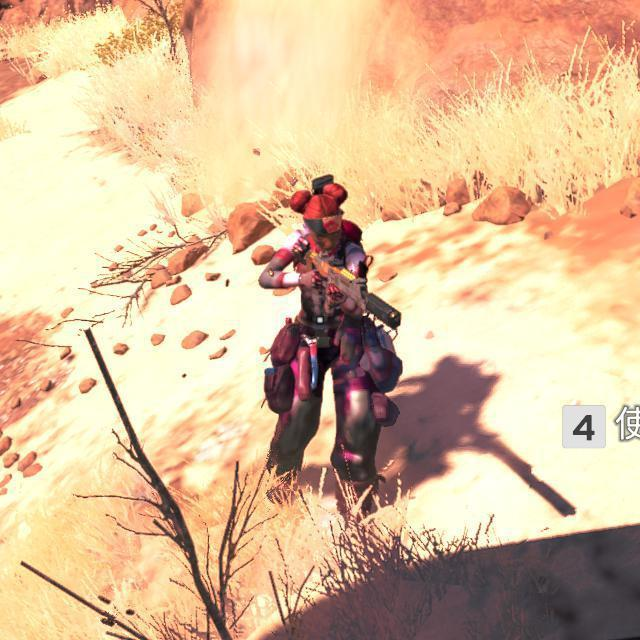avatar: (256, 174, 404, 513)
